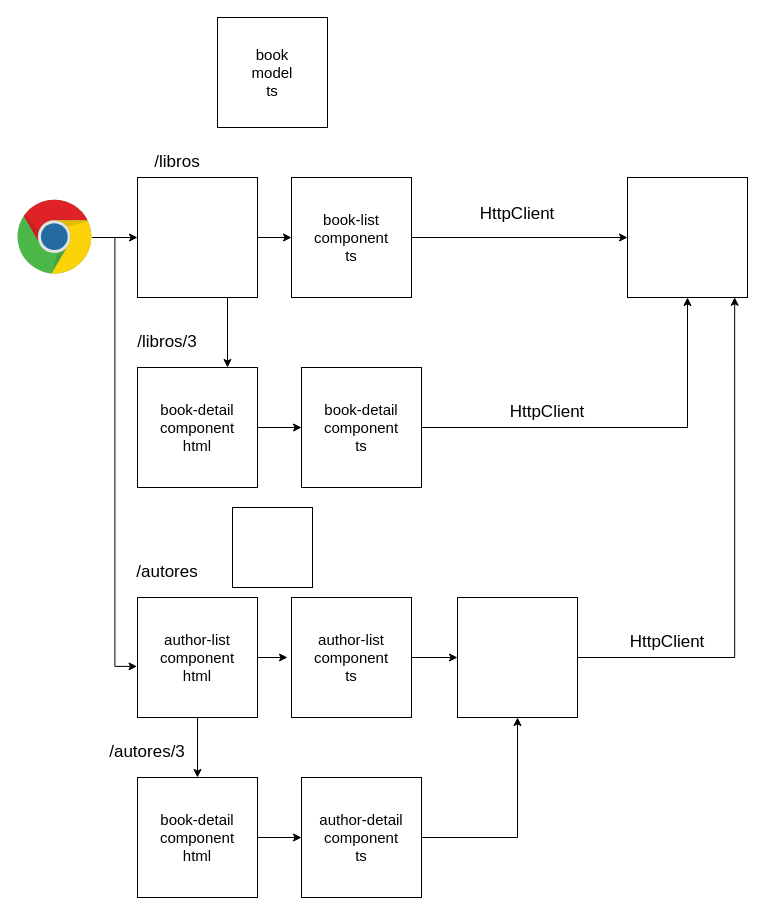
Image size: 765x915. Some labels were removed from this diagram. Each missing label, with the centre of its shape:
author model ts: [272,547]
Author Service ts: [517,657]
BACKEND json server db.json: [687,237]
book-list component html: [197,237]
